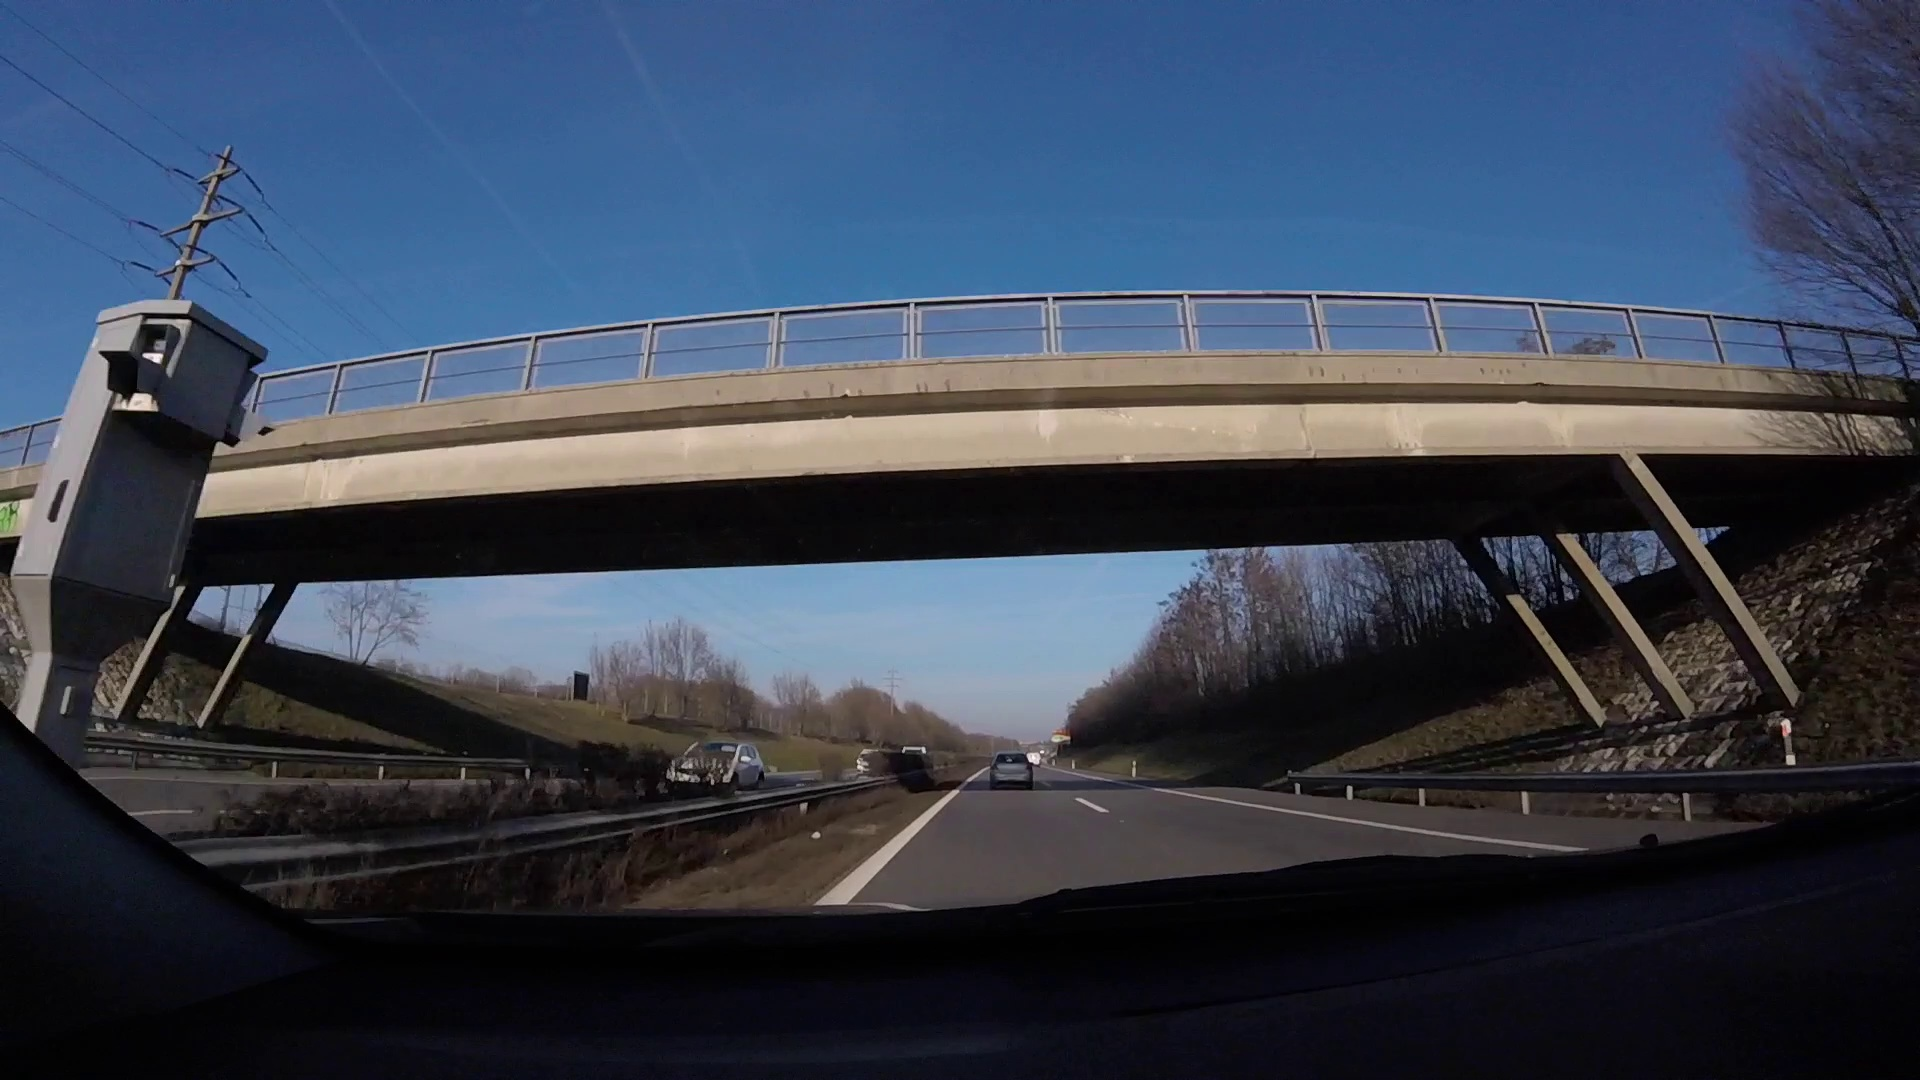radar: (11, 298, 266, 787)
